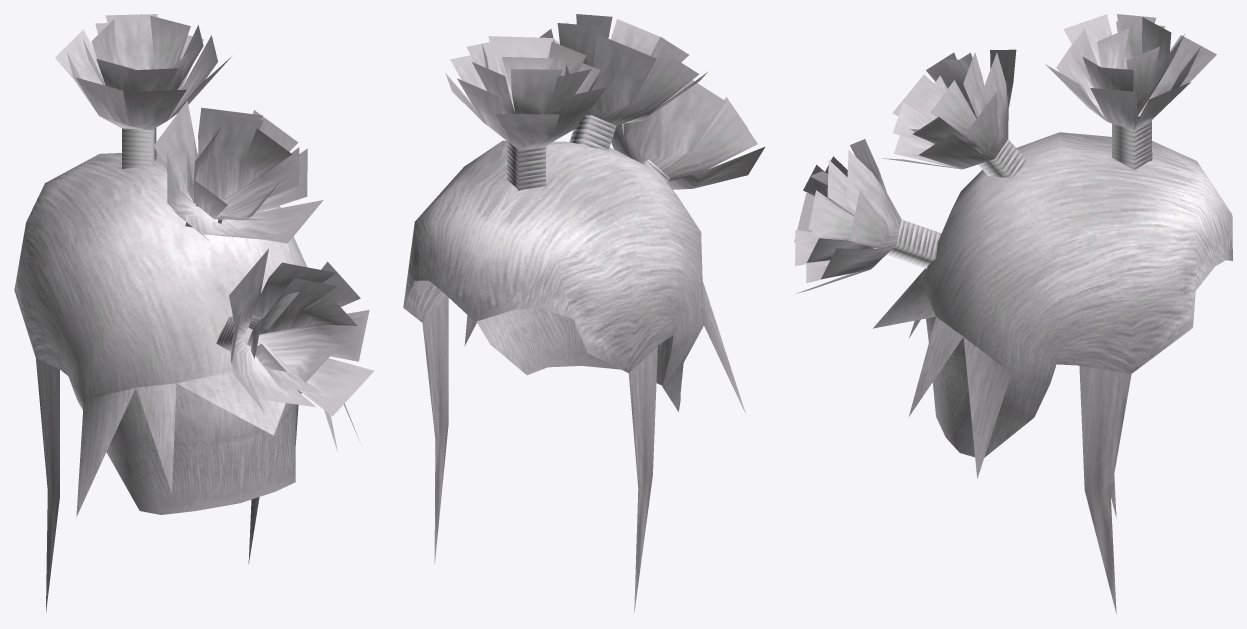
The model's file is Martial arts male hair 35.glb.
The picture shows the model from 3 angles, left to right: view 1: azimuth 30°, elevation 25°; view 2: azimuth 150°, elevation 25°; view 3: azimuth 270°, elevation 25°; orthographic projection. The views are drawn at different scales.
Parts seen in each view (by area): view 1: 武侠男头发35_0; view 2: 武侠男头发35_0; view 3: 武侠男头发35_0.
Boxes of the visible parts, x1=… form: 武侠男头发35_0: x1=14, y1=14, x2=374, y2=612; 武侠男头发35_0: x1=403, y1=14, x2=764, y2=612; 武侠男头发35_0: x1=794, y1=14, x2=1232, y2=614.
Size of the model in its own units: 0.2007 by 0.3701 by 0.2763.
Materials: 1 (1 with a texture image).
